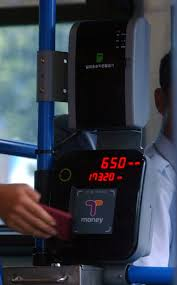terminal: (31, 148, 159, 268)
